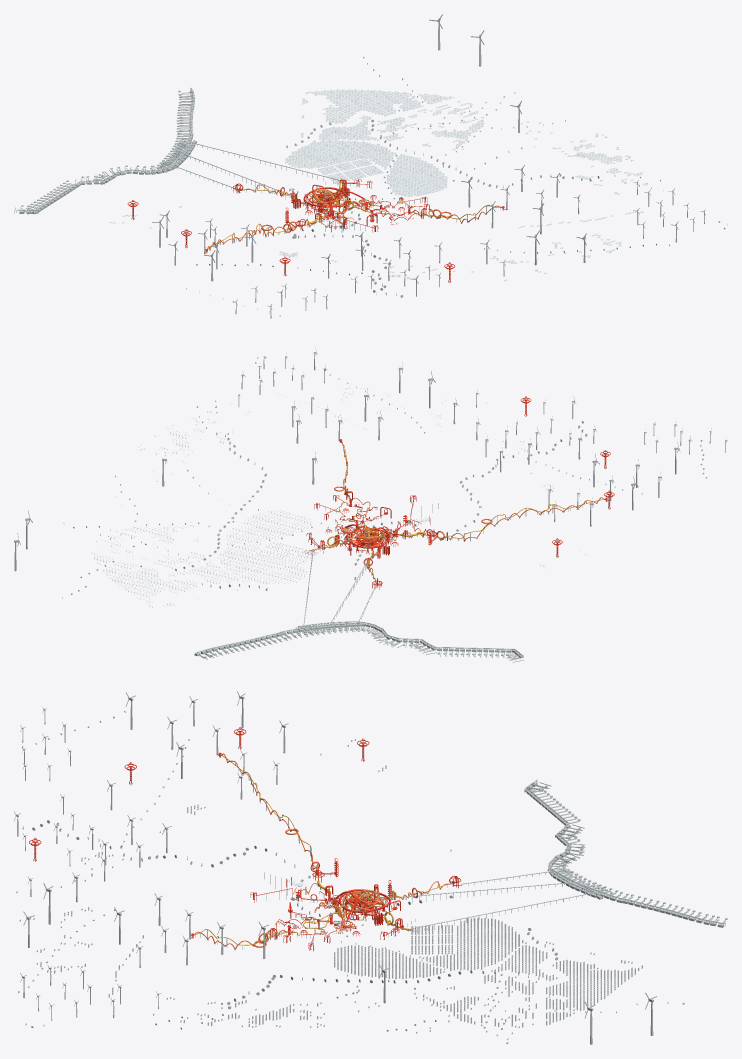
3 views of the same model, one above another, from view 1: azimuth 30°, elevation 25°; view 2: azimuth 150°, elevation 25°; view 3: azimuth 270°, elevation 25° (orthographic). The views are drawn at different scales.
Visible parts, largest first — view 1: solid::Sources::Solar, solid::Sources::Source_Sun, solid::Sources::Wave, solid::Sources::Wind, solid::Pipes_all::Structures, solid::Sources::Hydro, solid::Pipes_all::Wave_Collector, solid::Pipes_all::Hub_Giant_Pipes, solid::Pipes_all::Variant_A::Energy::Pipe_Main, solid::Sources::Source_Wind_B, solid::Sources::Source_Wind_A; view 2: solid::Sources::Wave, solid::Sources::Wind, solid::Pipes_all::Structures, solid::Sources::Hydro, solid::Pipes_all::Wave_Collector, solid::Pipes_all::Hub_Giant_Pipes, solid::Pipes_all::Variant_A::Energy::Pipe_Main, solid::Sources::Source_Sun, solid::Sources::Solar, solid::Sources::Source_Wind_B; view 3: solid::Sources::Solar, solid::Sources::Source_Sun, solid::Sources::Wave, solid::Sources::Wind, solid::Pipes_all::Structures, solid::Pipes_all::Wave_Collector, solid::Sources::Hydro, solid::Pipes_all::Hub_Giant_Pipes, solid::Sources::Source_Wind_B, solid::Pipes_all::Variant_A::Energy::Pipe_Main, solid::Sources::Source_Wind_A.
Boxes of the visible parts, x1,y1,x2,y2 form: solid::Sources::Solar: (109,89,650,280); solid::Sources::Source_Sun: (285,140,447,196); solid::Sources::Wave: (14,90,196,214); solid::Sources::Wind: (232,14,705,318); solid::Pipes_all::Structures: (131,179,450,283); solid::Sources::Hydro: (186,56,727,316); solid::Pipes_all::Wave_Collector: (17,88,344,211); solid::Pipes_all::Hub_Giant_Pipes: (127,185,455,269); solid::Pipes_all::Variant_A::Energy::Pipe_Main: (205,184,506,252); solid::Sources::Source_Wind_B: (152,210,256,281); solid::Sources::Source_Wind_A: (461,165,580,234); solid::Sources::Wave: (195,622,523,662); solid::Sources::Wind: (14,347,727,571); solid::Pipes_all::Structures: (306,396,610,589); solid::Sources::Hydro: (62,357,707,598); solid::Pipes_all::Wave_Collector: (195,549,523,655); solid::Pipes_all::Hub_Giant_Pipes: (334,397,614,555); solid::Pipes_all::Variant_A::Energy::Pipe_Main: (319,440,608,588); solid::Sources::Source_Sun: (218,510,318,583); solid::Sources::Solar: (91,387,585,607); solid::Sources::Source_Wind_B: (548,441,680,526); solid::Sources::Solar: (16,739,642,1033); solid::Sources::Source_Sun: (334,917,523,979); solid::Sources::Wave: (524,782,727,927); solid::Sources::Wind: (14,707,656,1044); solid::Pipes_all::Structures: (33,727,460,951); solid::Pipes_all::Wave_Collector: (406,779,725,930); solid::Sources::Hydro: (18,711,684,1043); solid::Pipes_all::Hub_Giant_Pipes: (29,728,390,925); solid::Sources::Source_Wind_B: (125,691,288,799); solid::Pipes_all::Variant_A::Energy::Pipe_Main: (191,753,460,949); solid::Sources::Source_Wind_A: (114,893,268,967).
Size of the model in its own units: 1468 by 249 by 1567.
